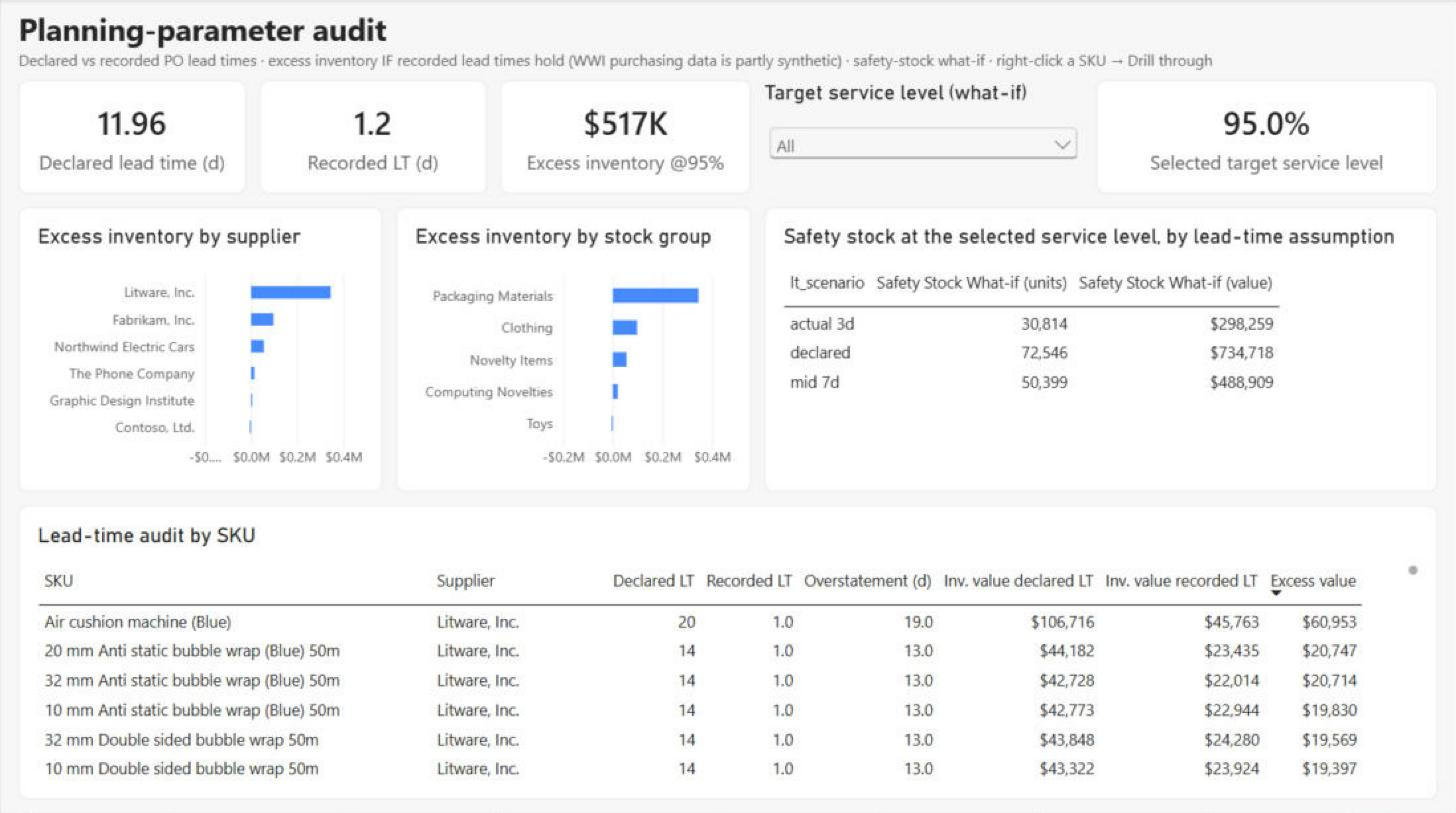

What the dashboard file says about the page in this screenshot:
{"tool":"powerbi","page":{"name":"Planning-parameter audit","canvas":[1280,720],"ordinal":3},"visuals":[{"type":"textbox","box":[16,8,1248,56],"z":1000},{"type":"card","title":"Declared lead time (d)","fields":{"Values":["Avg(Lead Time Audit.declared_lead_time_days)"]},"box":[16,72,200,100],"z":2000},{"type":"card","title":"Recorded LT (d)","fields":{"Values":["Avg(Lead Time Audit.avg_actual_lead_days)"]},"box":[228,72,200,100],"z":3000},{"type":"card","title":"Excess inventory @95%","fields":{"Values":["Sum(Lead Time Audit.excess_inventory_value)"]},"box":[440,72,220,100],"z":4000},{"type":"clusteredBarChart","title":"Excess inventory by supplier","fields":{"Category":["Lead Time Audit.supplier_name"],"Y":["Sum(Lead Time Audit.excess_inventory_value)"]},"box":[16,184,320,250],"z":5000},{"type":"clusteredBarChart","title":"Excess inventory by stock group","fields":{"Category":["Stock Item.primary_stock_group"],"Y":["Sum(Lead Time Audit.excess_inventory_value)"]},"box":[348,184,312,250],"z":6000},{"type":"slicer","title":"Target service level (what-if)","fields":{"Values":["Target SL.Value"]},"box":[672,72,280,100],"z":7000},{"type":"card","title":"Selected target service level","fields":{"Values":["Target SL.Target SL Value"]},"box":[964,72,300,100],"z":8000},{"type":"tableEx","title":"Safety stock at the selected service level, by lead-time assumption","fields":{"Values":["Scenario.lt_scenario","Policy Parameters.Safety Stock What-if (units)","Policy Parameters.Safety Stock What-if (value)"]},"box":[672,184,592,250],"z":9000},{"type":"tableEx","title":"Lead-time audit by SKU","fields":{"Values":["Stock Item.stock_item_name","Lead Time Audit.supplier_name","Sum(Lead Time Audit.declared_lead_time_days)","Sum(Lead Time Audit.avg_actual_lead_days)","Sum(Lead Time Audit.lead_time_overstatement_days)","Sum(Lead Time Audit.inv_value_declared_95)","Sum(Lead Time Audit.inv_value_actual3d_95)","Sum(Lead Time Audit.excess_inventory_value)"]},"box":[16,446,1248,258],"z":10000}]}

Visuals, with their boxes in screenshot pixels (x1, y1, x2, y2), scaled from the page's 1280x720 canvas onto the 1456x813 screenshot:
textbox: 18:9:1438:72
"Declared lead time (d)" card: 18:81:246:194
"Recorded LT (d)" card: 259:81:487:194
"Excess inventory @95%" card: 500:81:751:194
"Excess inventory by supplier" clusteredBarChart: 18:208:382:490
"Excess inventory by stock group" clusteredBarChart: 396:208:751:490
"Target service level (what-if)" slicer: 764:81:1083:194
"Selected target service level" card: 1097:81:1438:194
"Safety stock at the selected service level, by lead-time assumption" tableEx: 764:208:1438:490
"Lead-time audit by SKU" tableEx: 18:504:1438:795
